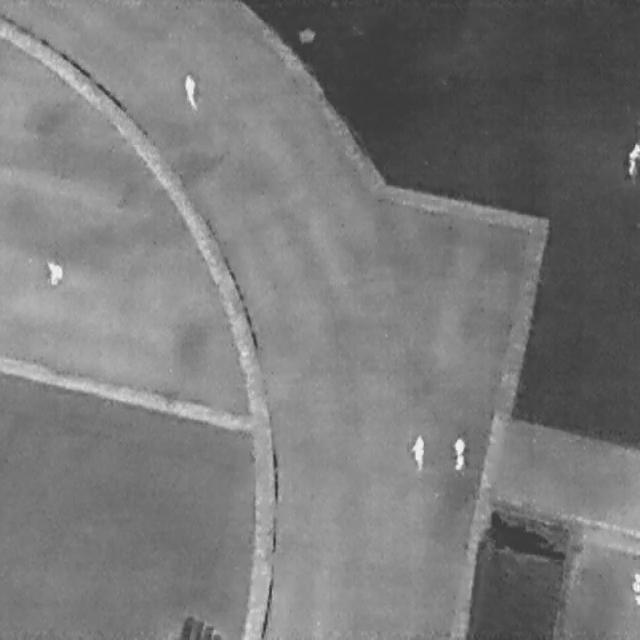DontCare: (629, 565, 638, 606)
Person: (452, 435, 465, 470), (46, 257, 62, 285), (411, 434, 424, 468), (183, 74, 195, 108), (628, 140, 639, 174)
